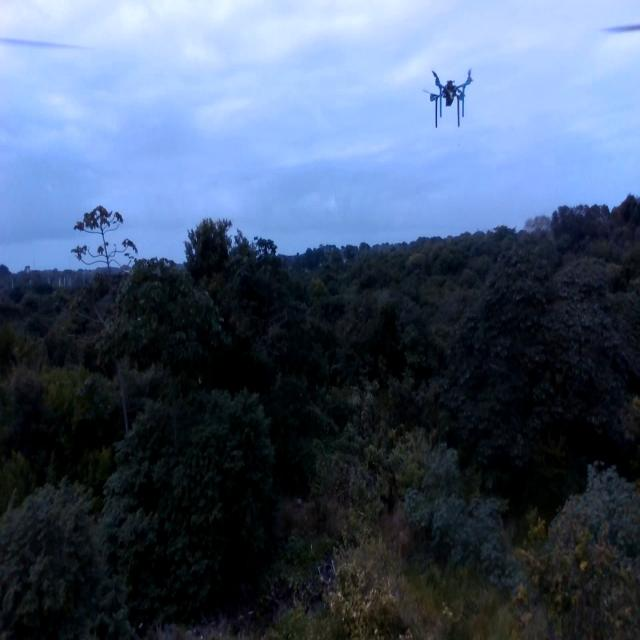-uav-: (411, 43, 480, 132)
